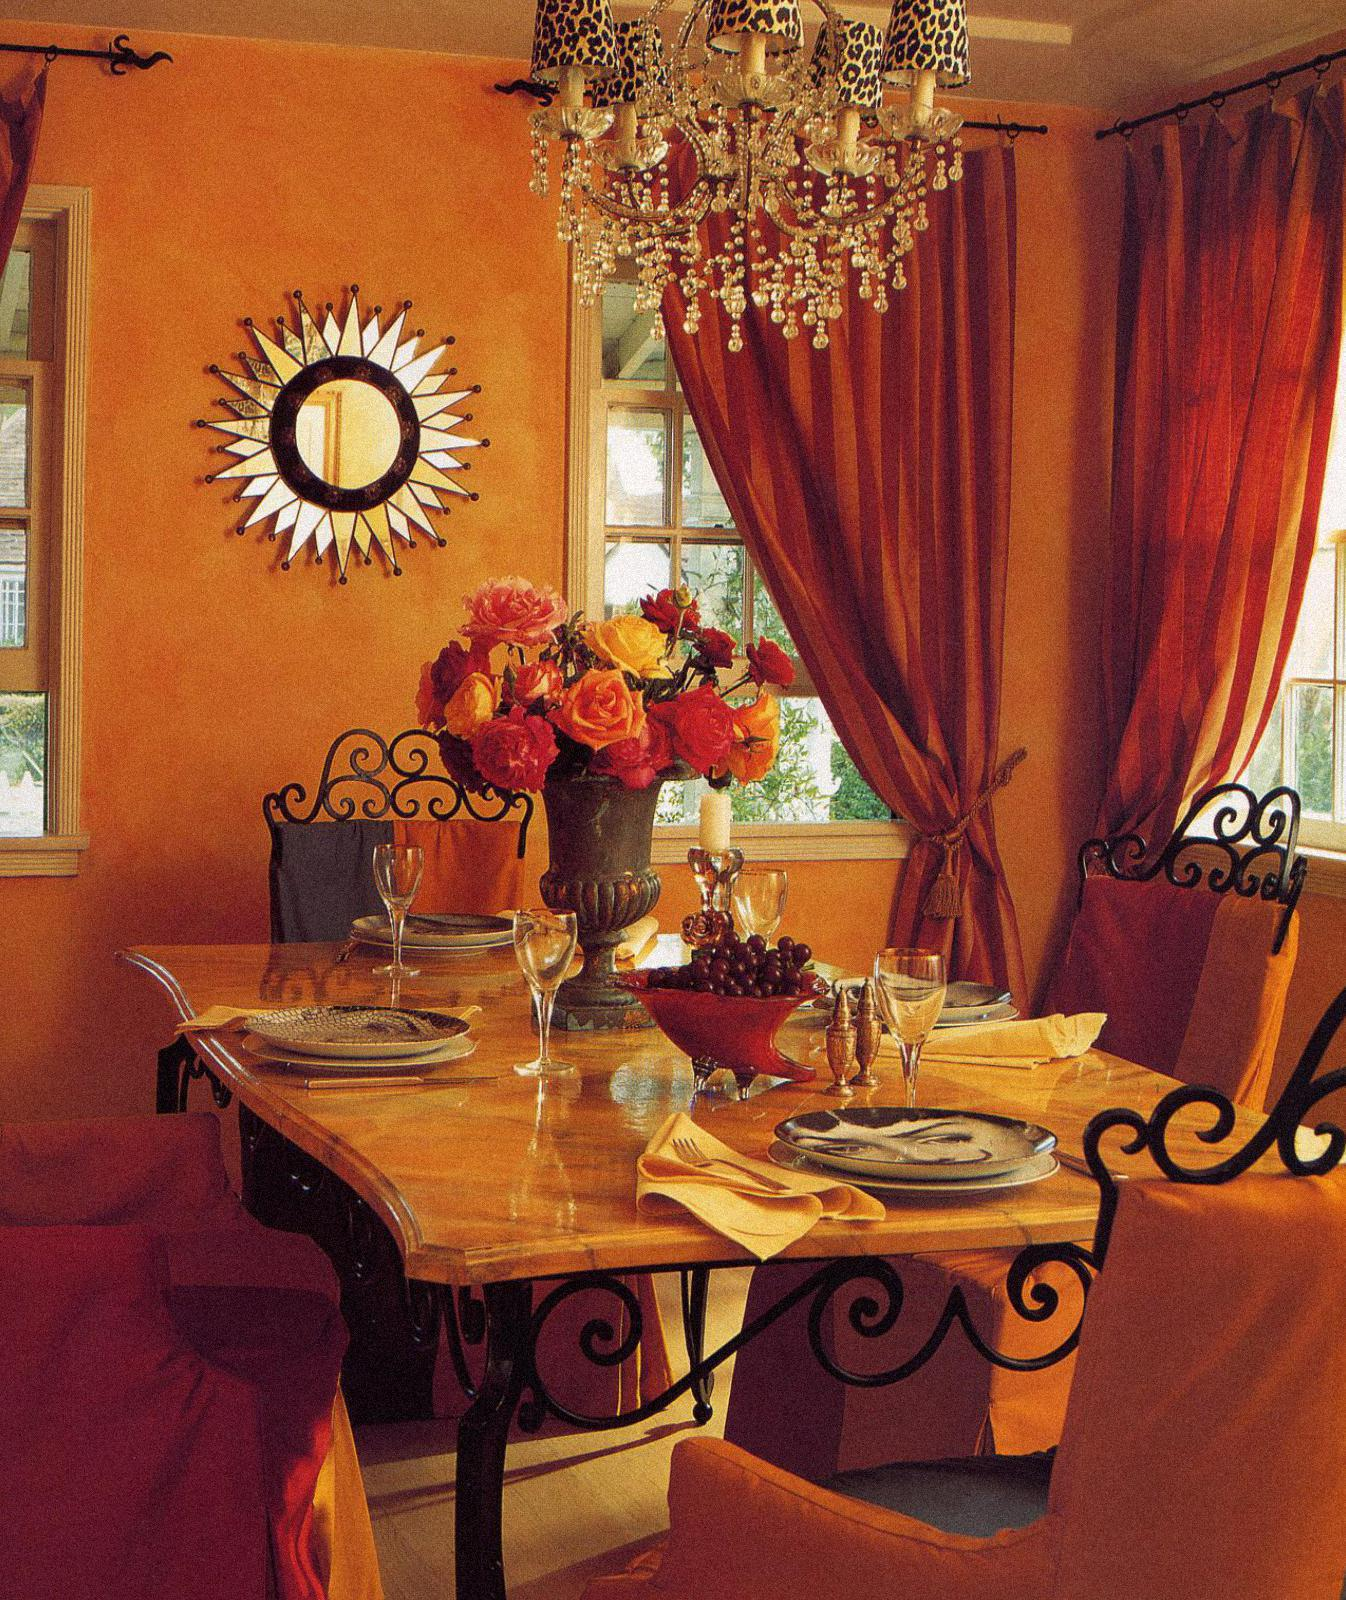Matera: (421, 594, 785, 1019)
